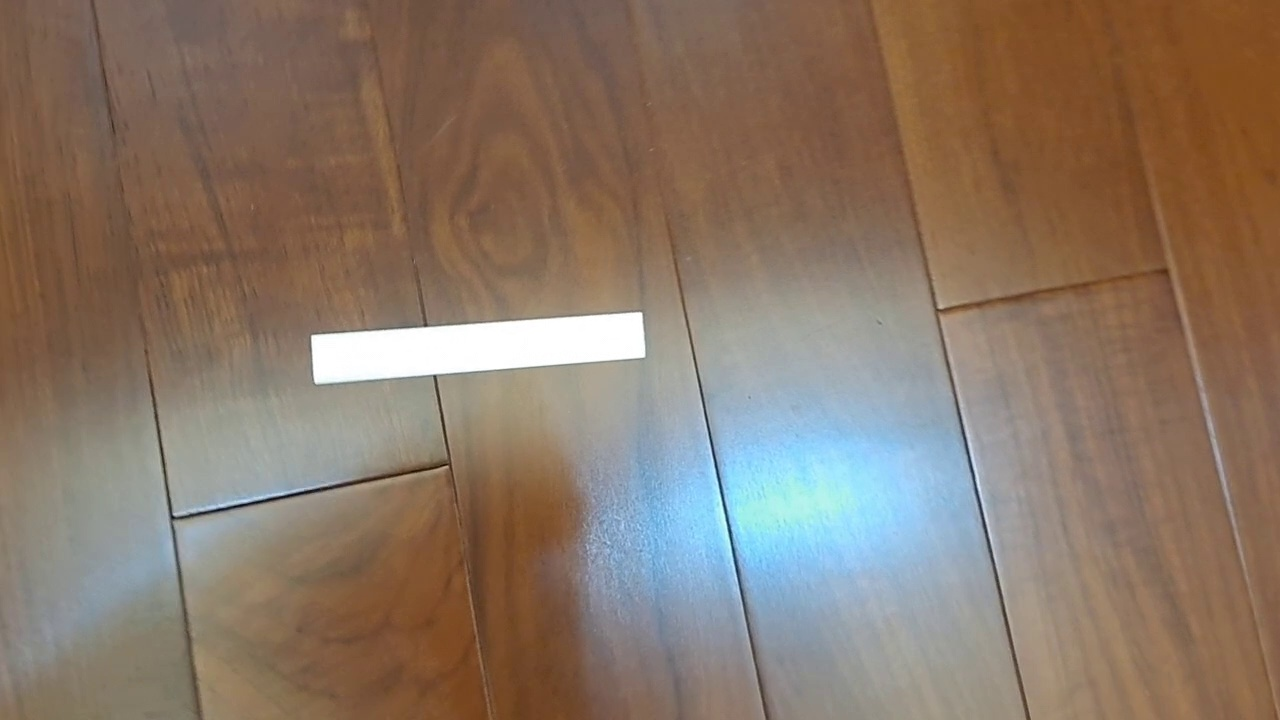ruler: (309, 311, 646, 386)
